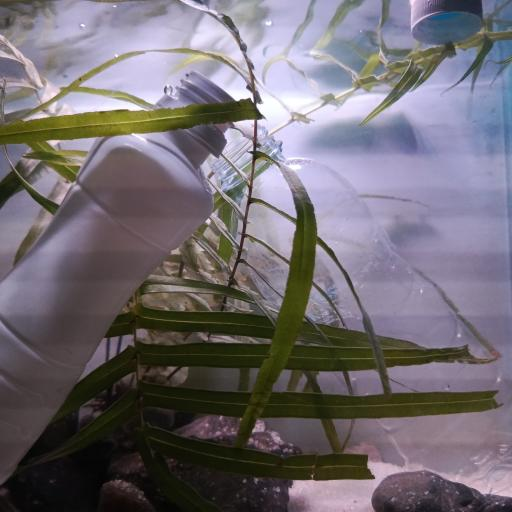bottle_cap: (410, 0, 484, 42)
plastic_bottle: (212, 126, 512, 495), (0, 67, 240, 512)
